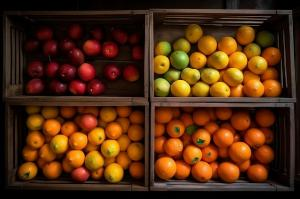apple: (6, 8, 150, 97)
orange: (152, 9, 296, 103), (9, 100, 153, 186), (153, 104, 298, 186)
